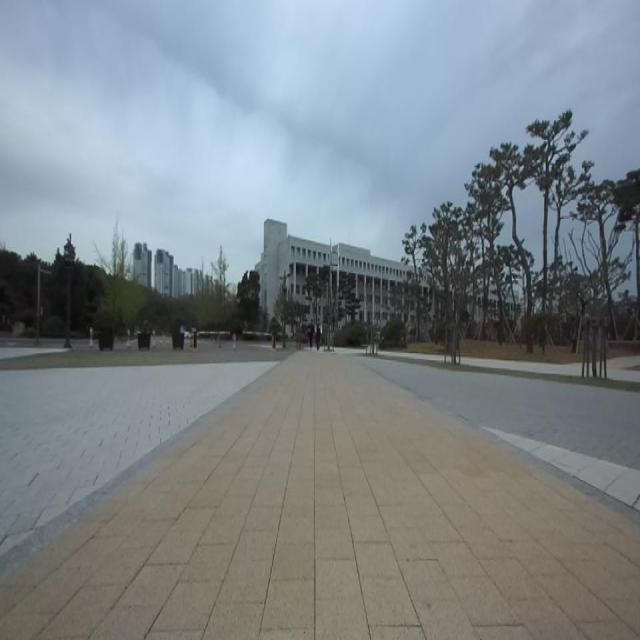sidewalk: (0, 353, 640, 639), (462, 356, 582, 376), (462, 358, 584, 376), (608, 356, 640, 382), (608, 358, 640, 382), (381, 350, 444, 362), (408, 353, 441, 360), (336, 348, 364, 355)
